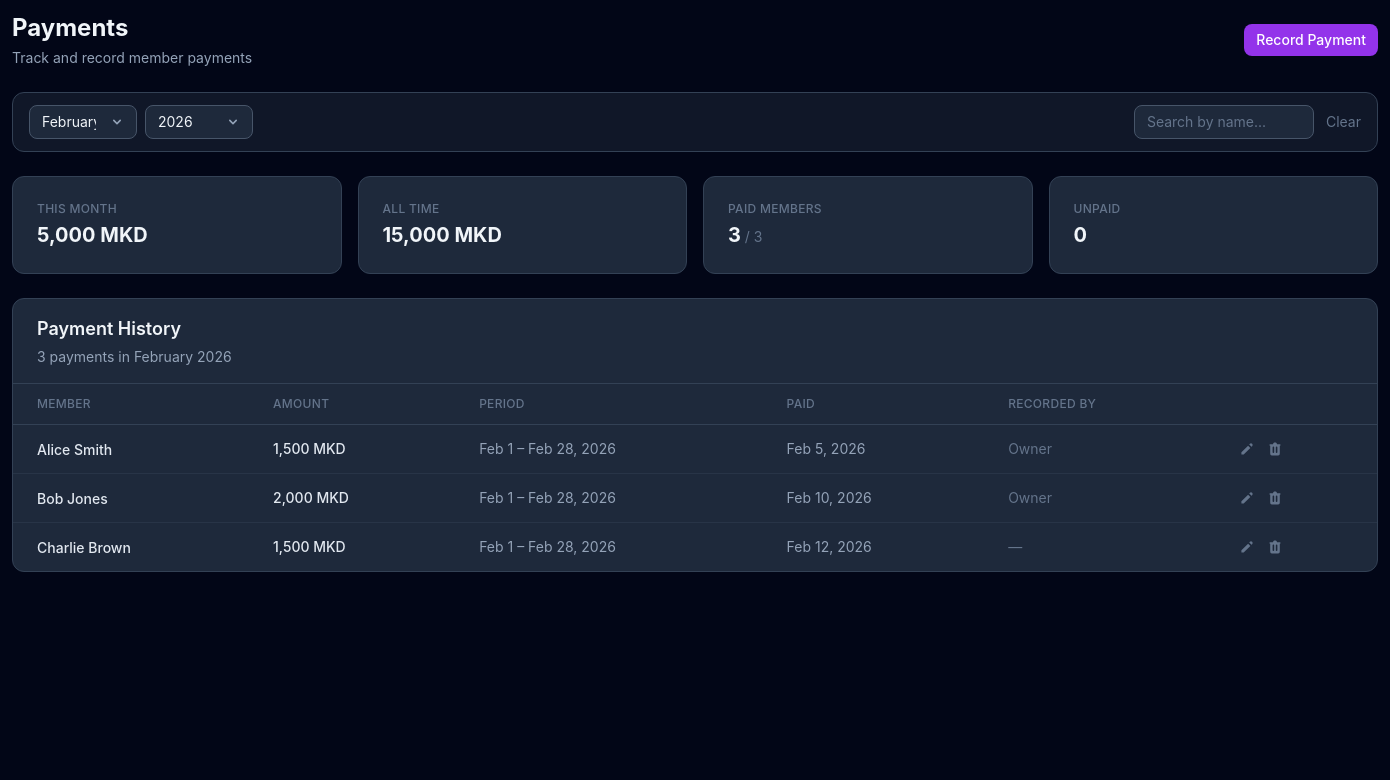
Scenario: PaymentsClient › Month/Year change › updates displayed payments after fetch
The image size is (1390, 780).
Expected: the link "Alice Smith" is shown, [37,441,112,458]
Select "January" in the dropdown named "Filter by month": (83, 122) [29,105,137,139]
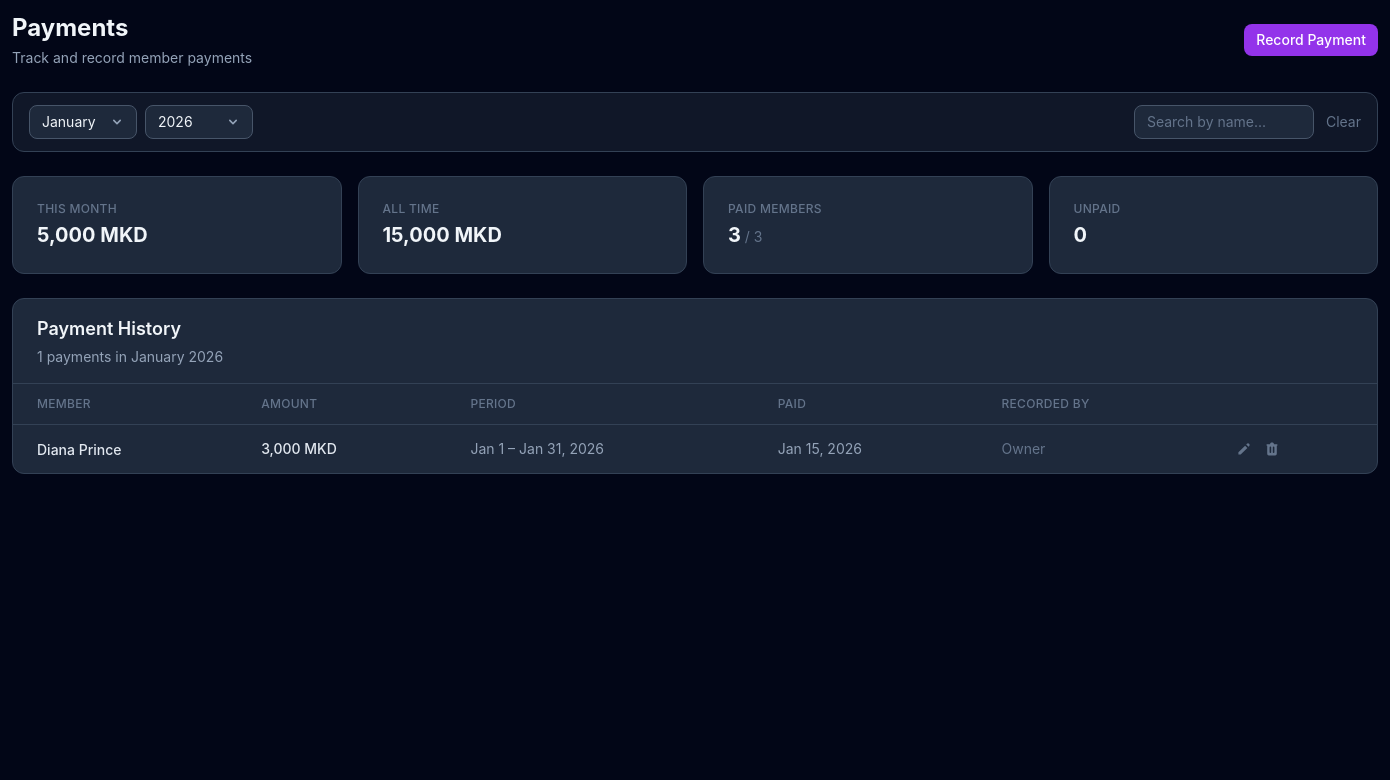
Result: the link "Diana Prince" is shown at [37,441,122,458]
Result: the link "Alice Smith" is gone
